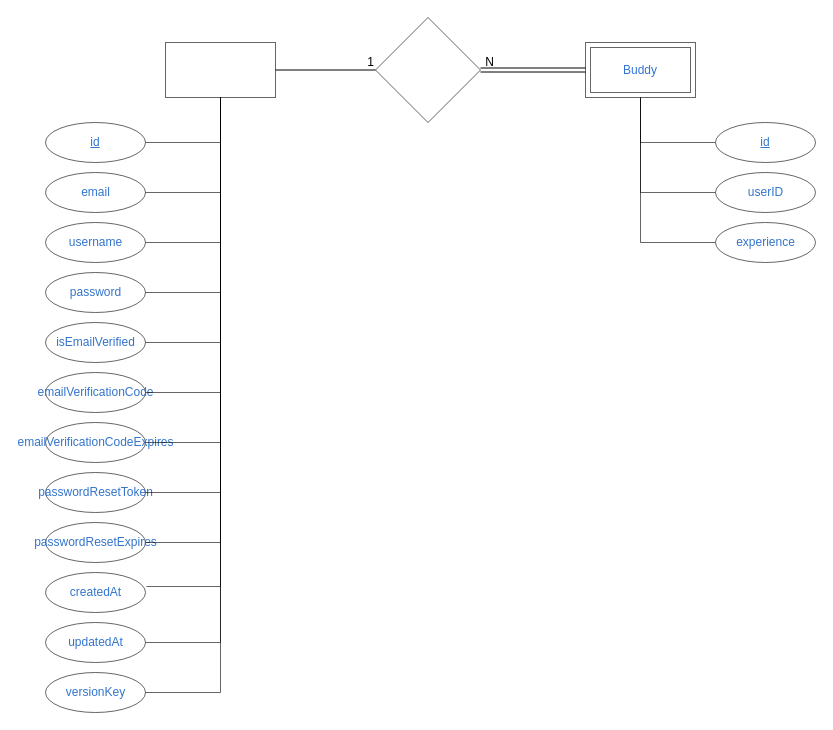
The diagram is 833 pixels wide and 730 high, and some of its shapes have lost their labels. Each missing label, with the centre of its shape:
"Gives UserID" belongs at pixel 427 69.
"User" belongs at pixel 220 70.
